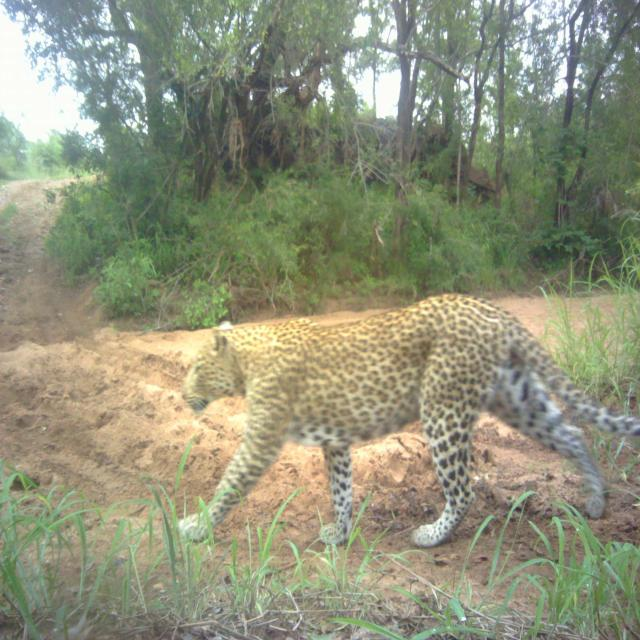Leopard: (165, 280, 636, 573)
